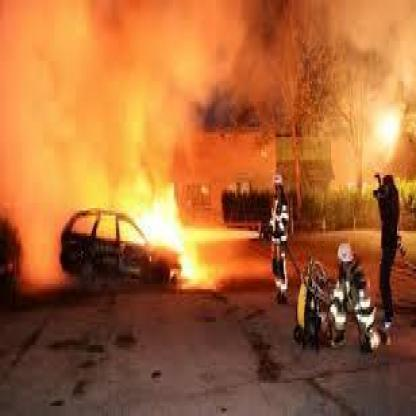fire: (125, 182, 220, 296)
other: (374, 99, 404, 149), (295, 280, 308, 334)
smoke: (0, 0, 135, 256)
